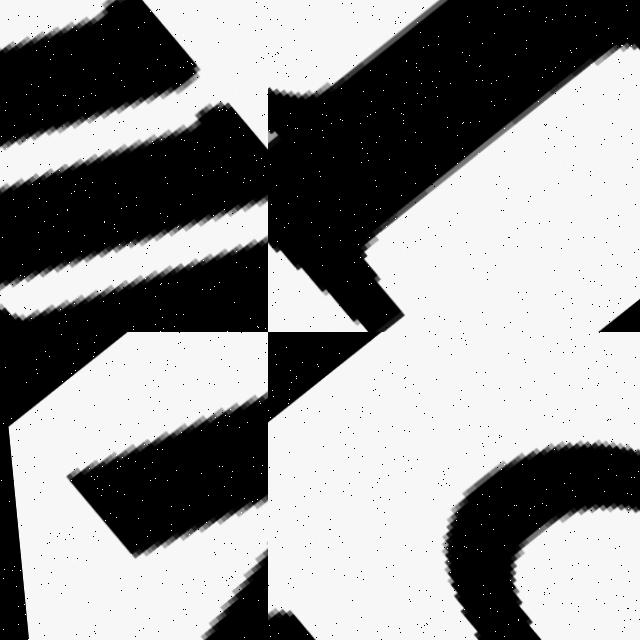5: (268, 334, 640, 640)
M: (0, 0, 268, 332)
R: (268, 0, 640, 332)
W: (31, 332, 268, 640)
